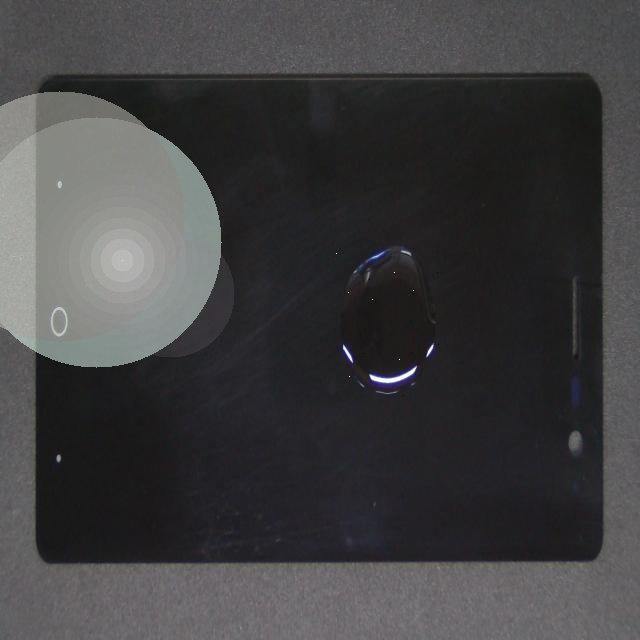oil: (212, 116, 577, 363)
